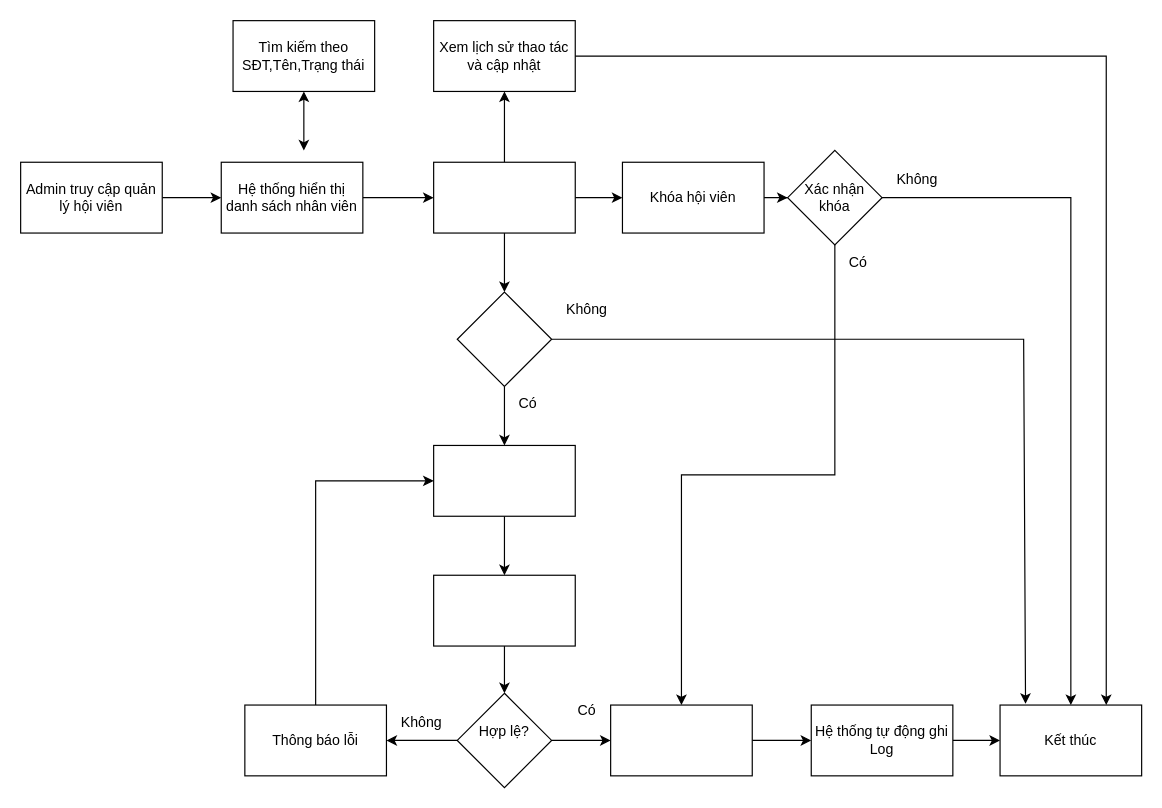
The diagram is 1162 pixels wide and 808 high, and some of its shapes have lost their labels. The shapes that lost their labels are listed below. From the top down, each one's centre as x and y in pixels, then its label:
At (x=503, y=197): "Xem chi tiêt hội viên".
At (x=504, y=338): "Chỉnh sửa ?".
At (x=503, y=480): "Cập nhật thông tin/ cập nhật Faceid".
At (x=503, y=610): "Hệ thống kiểm tra dữ liệu".
At (x=680, y=740): "Lưu hệ thống".
